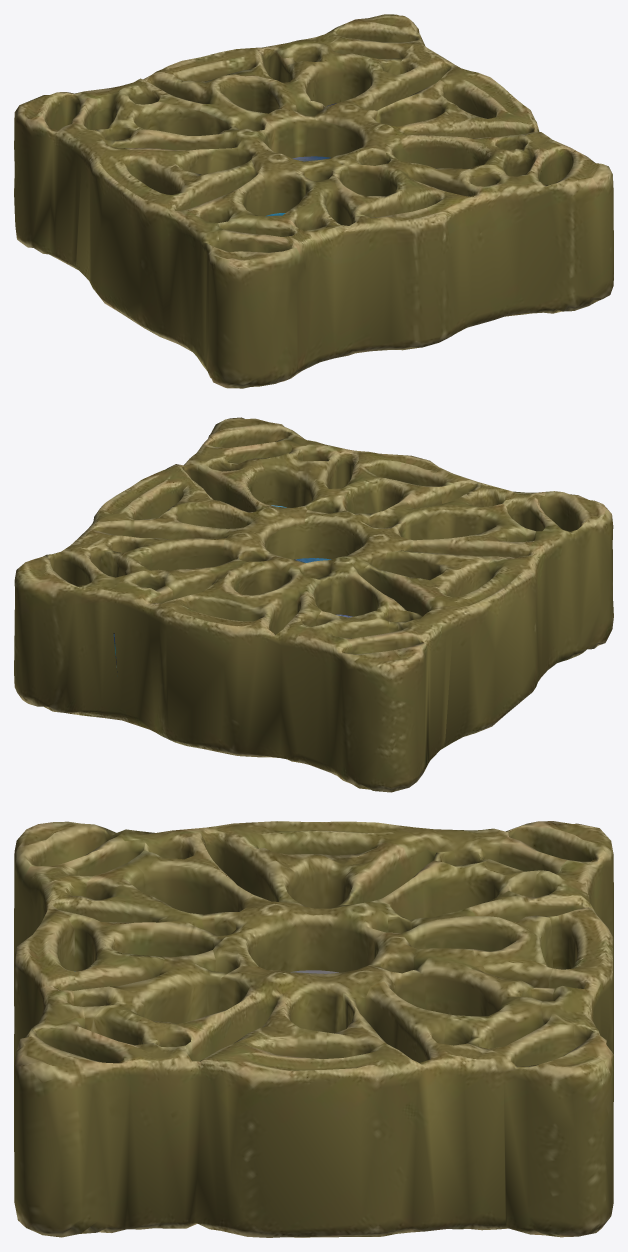
File: tile004V1_lowPolyCompressed.glb
3 views of the same model, one above another, from view 1: azimuth 30°, elevation 25°; view 2: azimuth 150°, elevation 25°; view 3: azimuth 270°, elevation 25° (orthographic). The views are drawn at different scales.
Visible parts, largest first — view 1: tile4_low.002; view 2: tile4_low.002; view 3: tile4_low.002.
Part boxes in pixels (x1=…): tile4_low.002: x1=14, y1=14, x2=613, y2=388; tile4_low.002: x1=14, y1=417, x2=613, y2=792; tile4_low.002: x1=14, y1=821, x2=613, y2=1237.
Size of the model in its own units: 0.9806 by 0.4752 by 0.9807.
3 materials, 3 textured.
